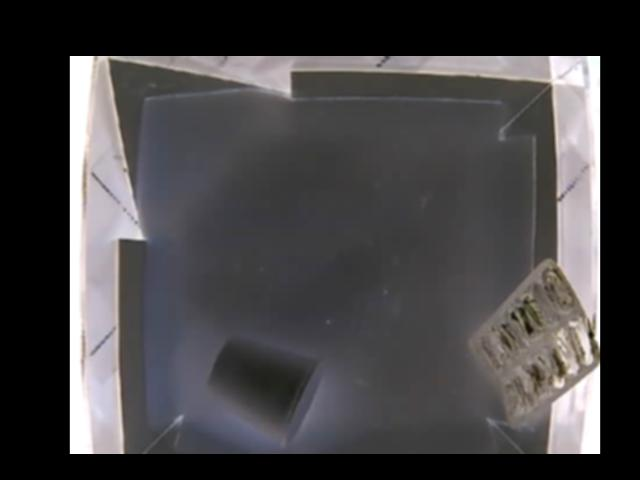Battery: (467, 257, 598, 426)
Cup: (205, 335, 320, 443)
